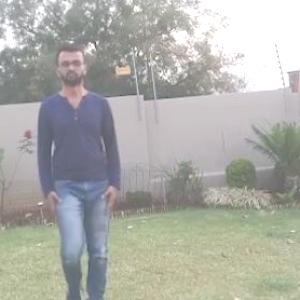follow: (44, 54, 119, 290)
